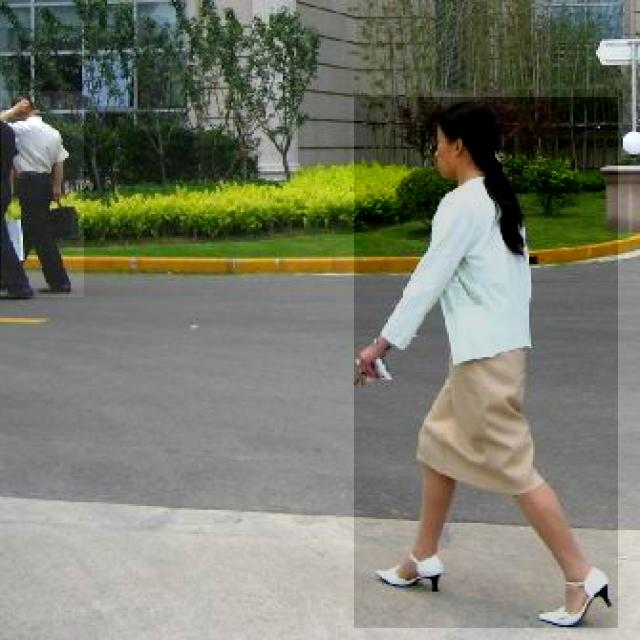with scooter: (354, 97, 618, 628), (1, 91, 84, 297)
